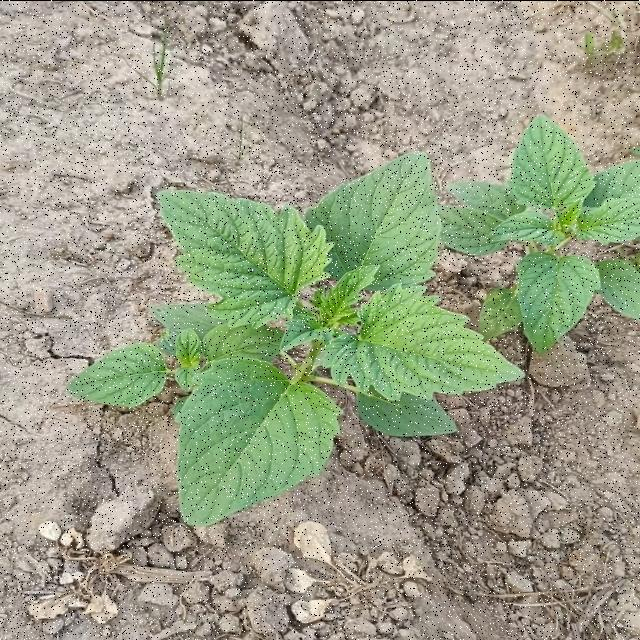plant: (67, 114, 640, 525)
